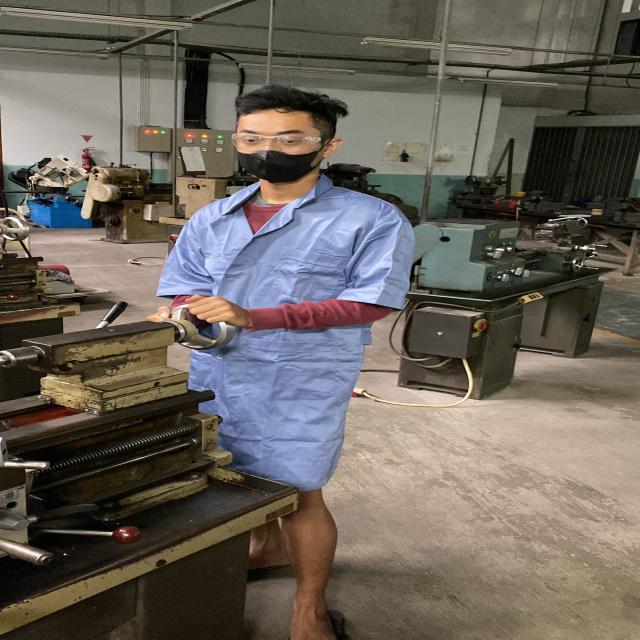face_mask: (230, 129, 325, 179)
glasses: (228, 130, 332, 152)
hand_noglove: (184, 294, 256, 326)
head_nohelmet: (234, 84, 343, 125)
